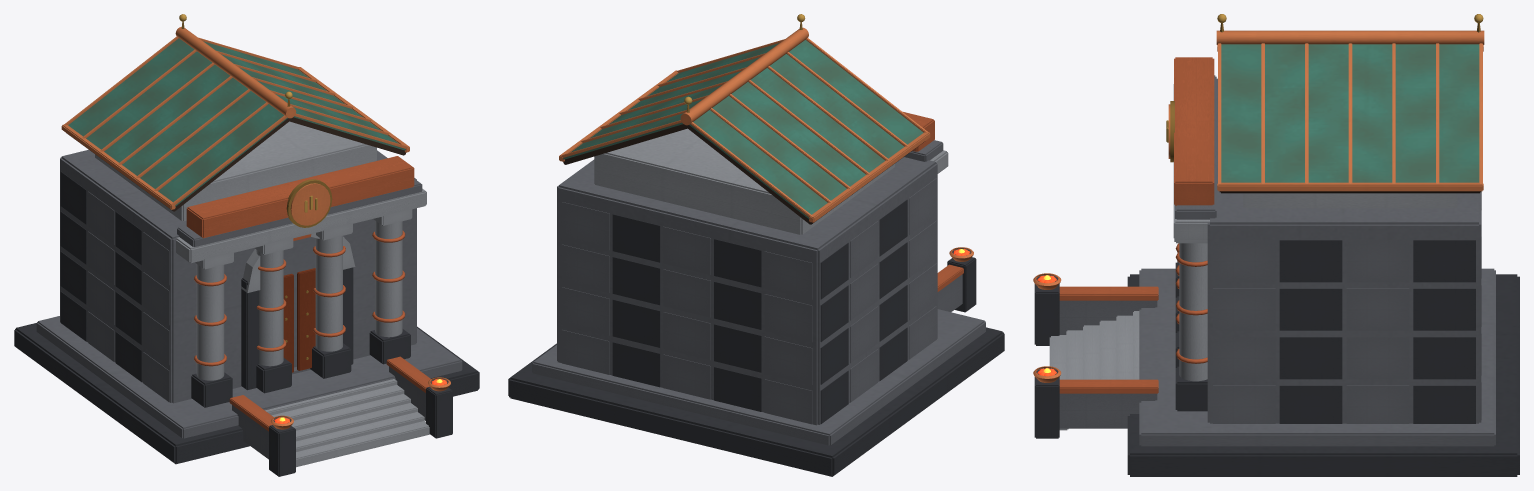
The model's file is hall_stone_council.glb.
3 renders of one model, left to right at view 1: azimuth 30°, elevation 25°; view 2: azimuth 150°, elevation 25°; view 3: azimuth 270°, elevation 25°, orthographic. The views are drawn at different scales.
Visible parts, largest first — view 1: hall_stone_council; view 2: hall_stone_council; view 3: hall_stone_council.
Boxes of the visible parts, bbox=[...] form: hall_stone_council: bbox=[14, 14, 479, 476]; hall_stone_council: bbox=[508, 14, 1004, 476]; hall_stone_council: bbox=[1033, 14, 1519, 476].
Bounding box in the file's own units: 7.2 × 6.94 × 8.19.
1 material, 1 textured.
